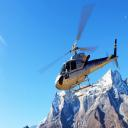helicopter: (38, 4, 122, 100)
